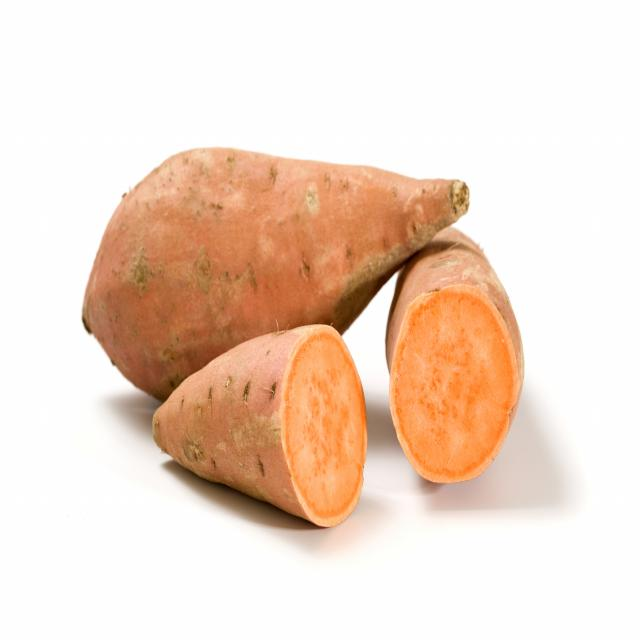Sweet Potato: (152, 324, 369, 530), (386, 231, 524, 489), (81, 140, 209, 390), (213, 146, 393, 321)
